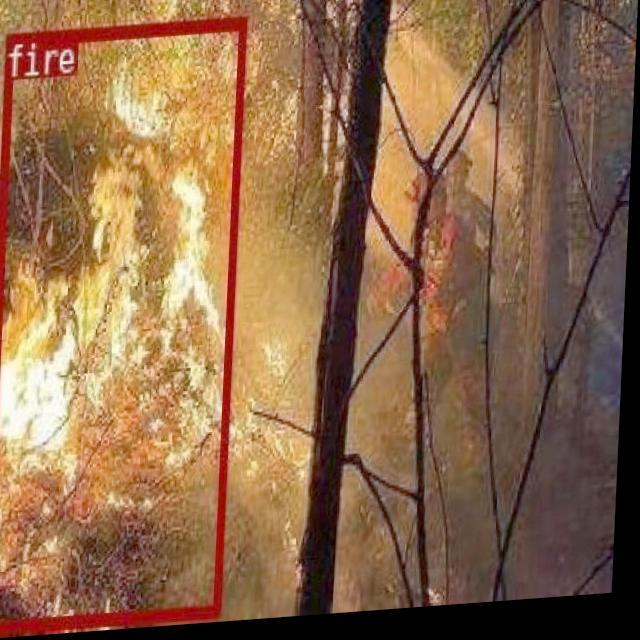Fire: (0, 26, 320, 618)
Smoke: (353, 0, 640, 618)
